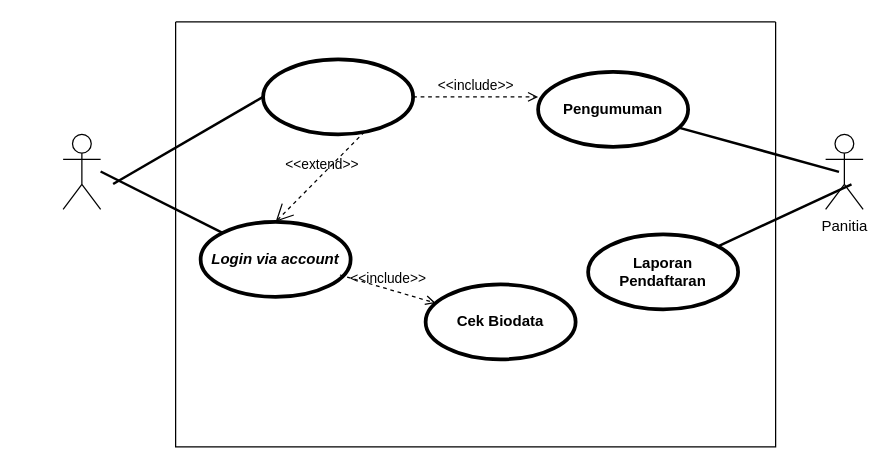
The diagram is 889 pixels wide and 469 high, and some of its shapes have lost their labels. Here are the shapes that lost their labels. From the top down, the box of each, then its label:
(261, 57, 414, 136): Cetak kartu Pendaftaran jika lulus
(62, 133, 101, 209): Calon Siswa-siswi
